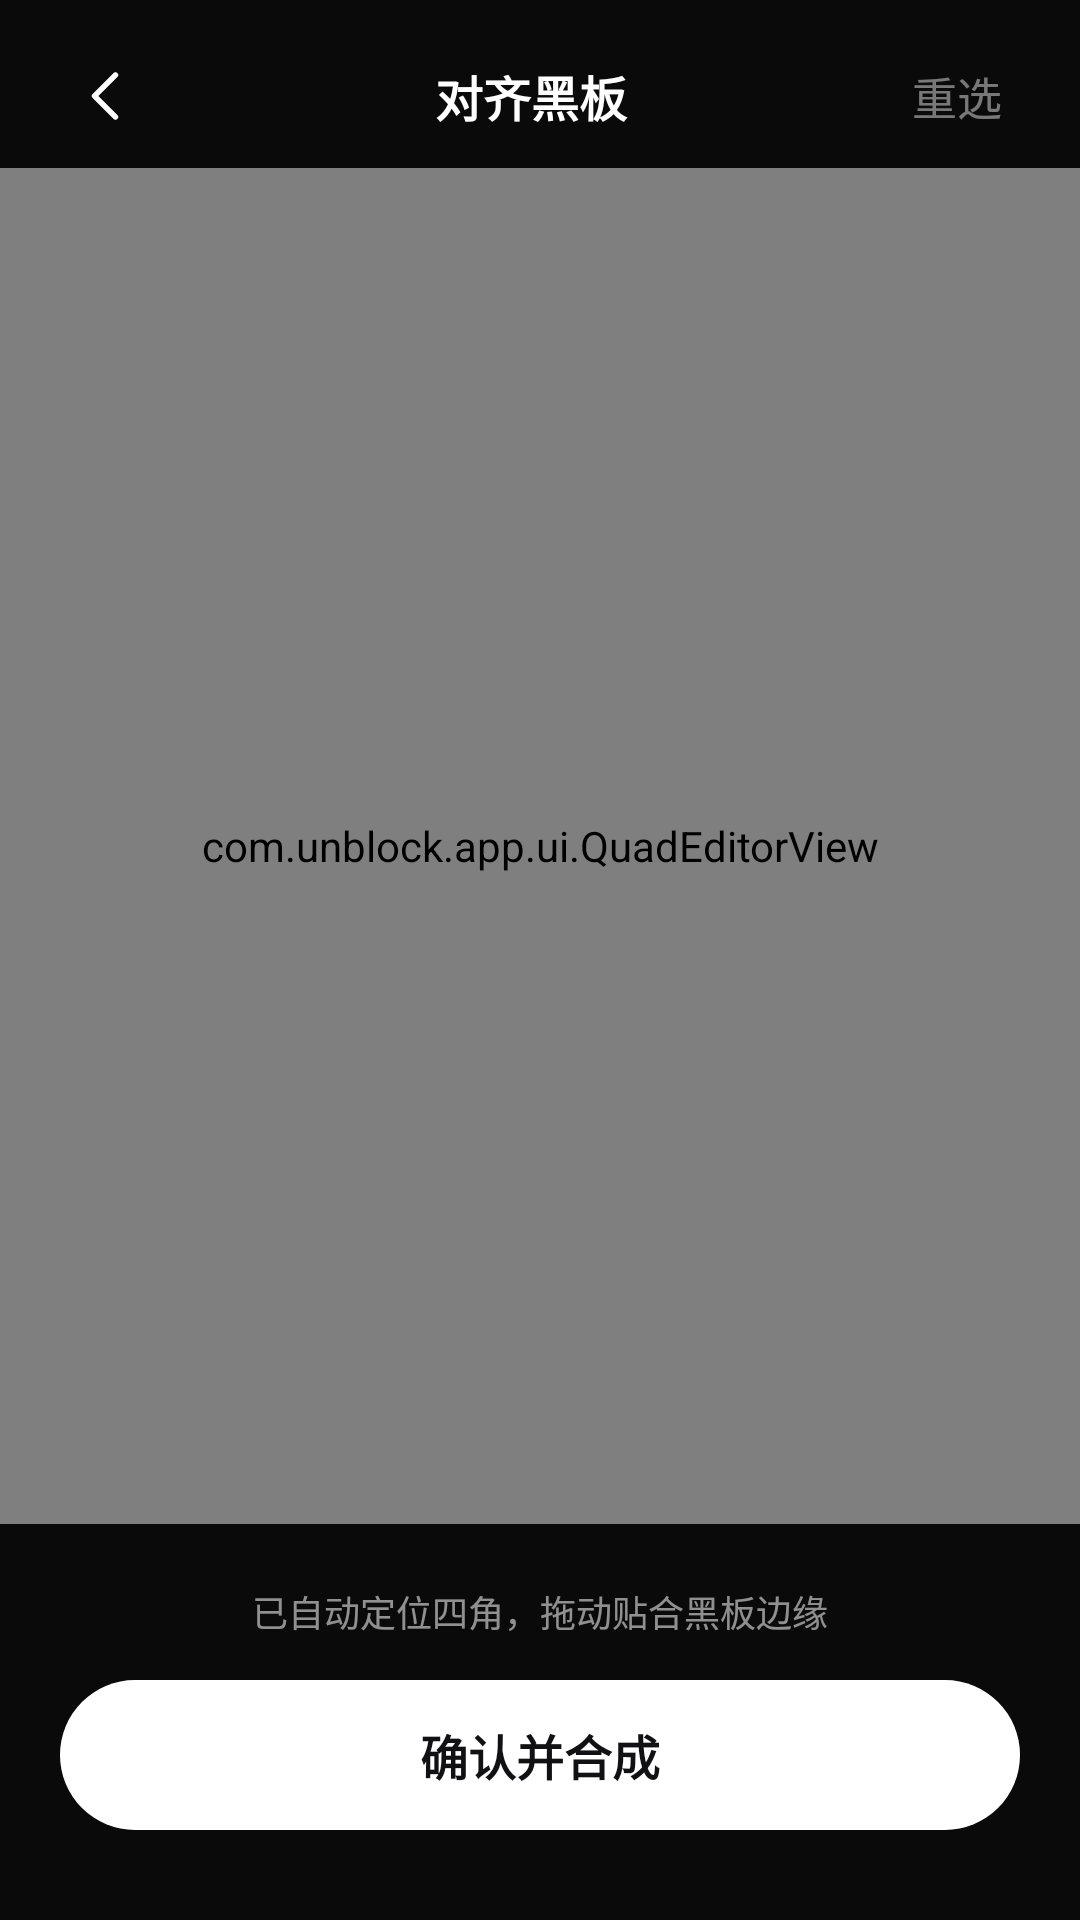

Icon click points for this 1080px×1920px phone screenshot, format (x=x, y=y):
返回: (x=105, y=96)
